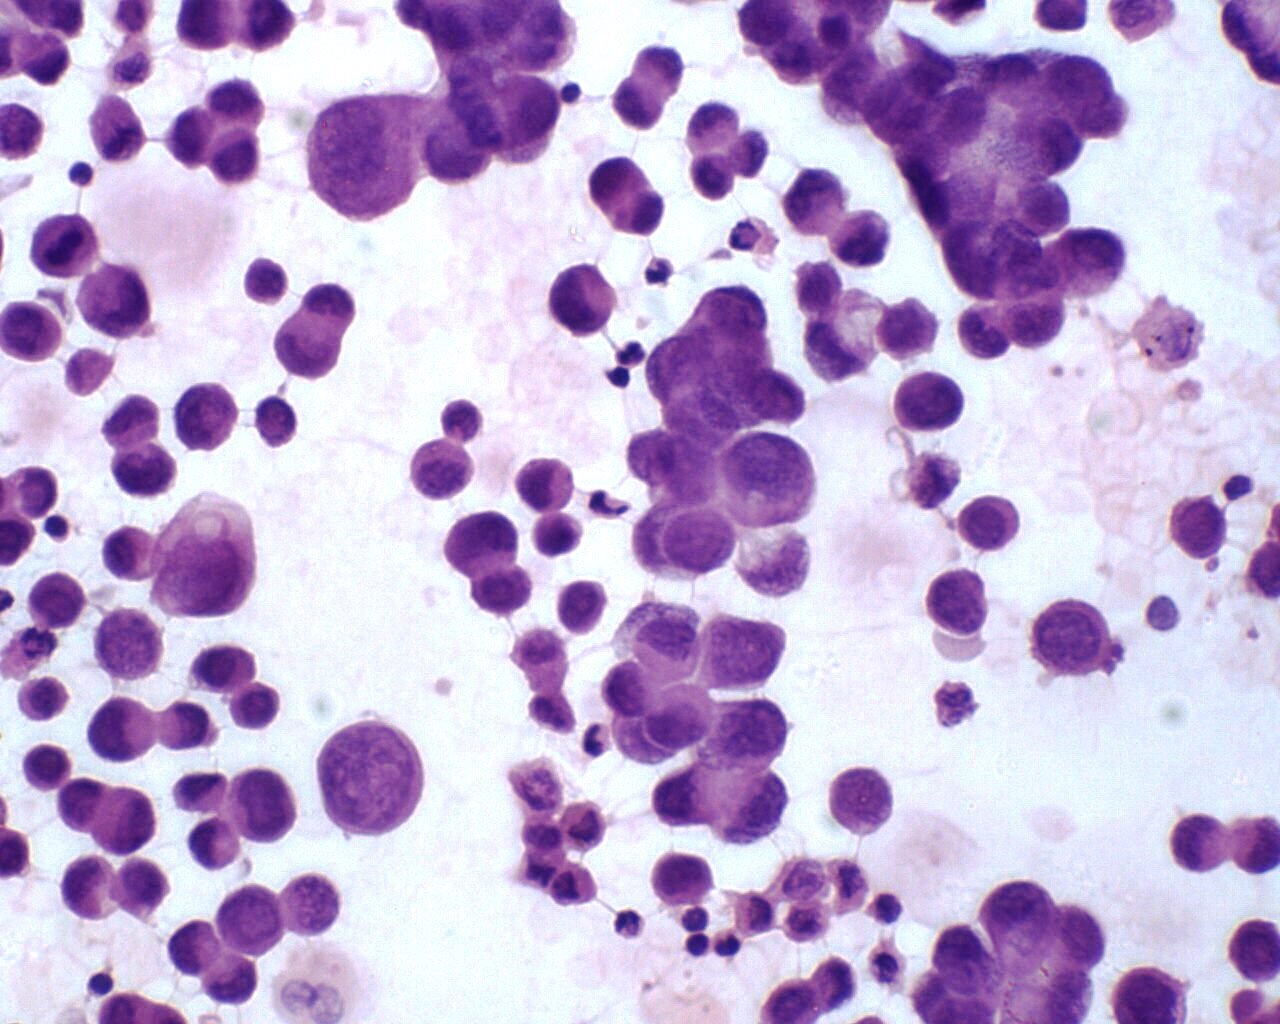ab: (315, 719, 427, 839), (723, 425, 818, 530), (1033, 595, 1117, 683), (224, 766, 298, 847), (549, 263, 623, 343), (825, 763, 897, 840), (216, 882, 286, 958), (442, 506, 521, 569), (894, 364, 965, 434), (173, 380, 241, 453), (92, 784, 159, 858), (925, 566, 993, 637), (87, 695, 157, 763), (1168, 490, 1229, 566), (410, 436, 476, 502), (955, 488, 1020, 554), (1, 300, 63, 369), (646, 850, 717, 909), (832, 207, 895, 273), (28, 568, 91, 631), (469, 564, 536, 618), (206, 125, 262, 188), (554, 579, 611, 639), (529, 509, 587, 561), (229, 681, 281, 734)
lymph: (40, 511, 77, 548), (82, 965, 117, 999), (556, 73, 587, 110), (682, 930, 713, 960)
neutro: (579, 721, 614, 758), (612, 335, 649, 369), (644, 257, 679, 289)
